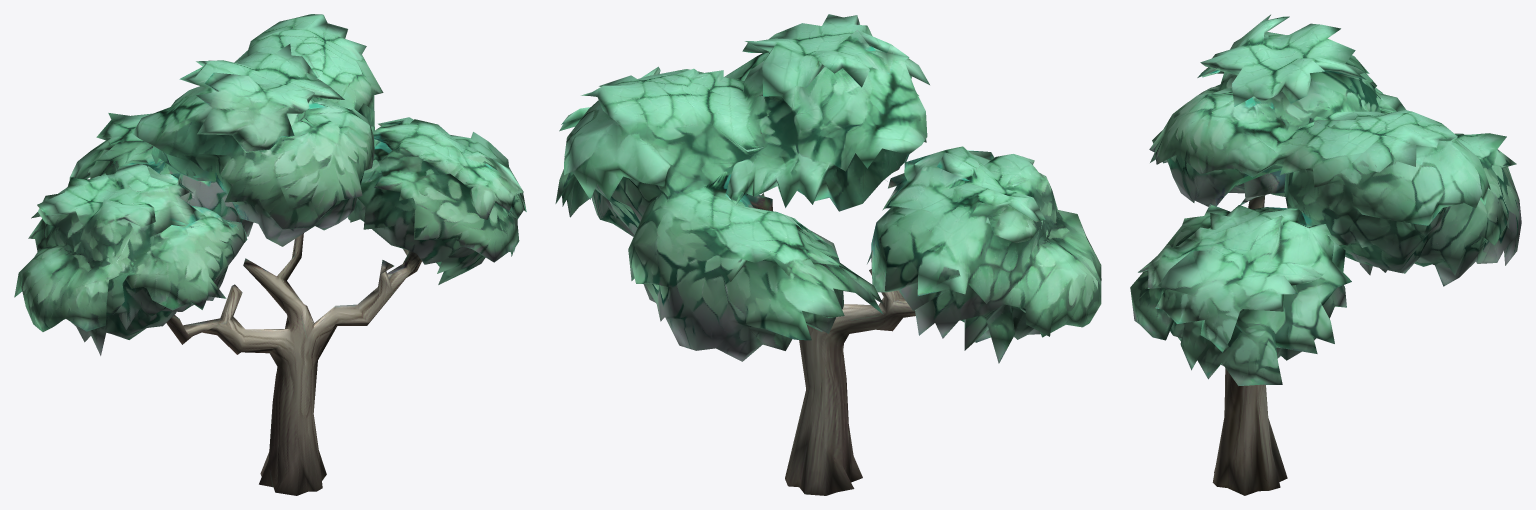
3 views of the same model, side by side, from view 1: azimuth 30°, elevation 25°; view 2: azimuth 150°, elevation 25°; view 3: azimuth 270°, elevation 25° (orthographic). The views are drawn at different scales.
Parts seen in each view (by area): view 1: Mesh_0; view 2: Mesh_0; view 3: Mesh_0.
Part boxes in pixels (x1,y1,x2,y2): Mesh_0: (14,14,526,495); Mesh_0: (555,14,1101,495); Mesh_0: (1130,14,1521,495).
Size of the model in its own units: 1.89 by 1.57 by 1.29.
1 material, 1 textured.
